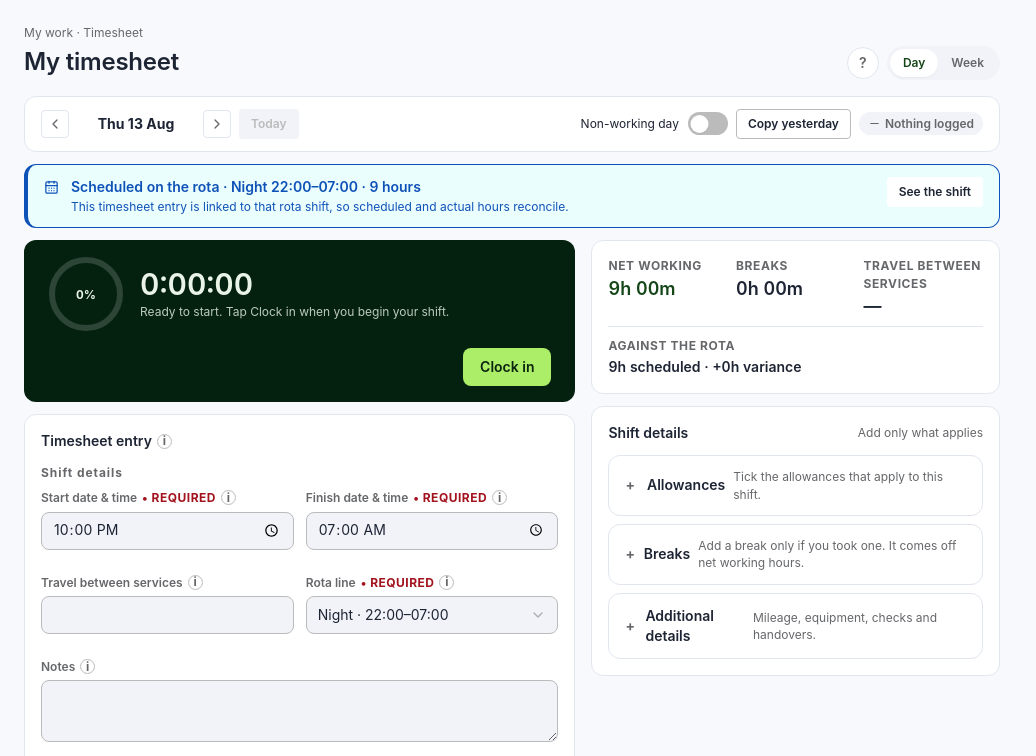
My timesheet, Fill from rota › the grid layout fills the first allocation from the rota
Click the button "Week" at (968, 63), box [938,49,997,77]
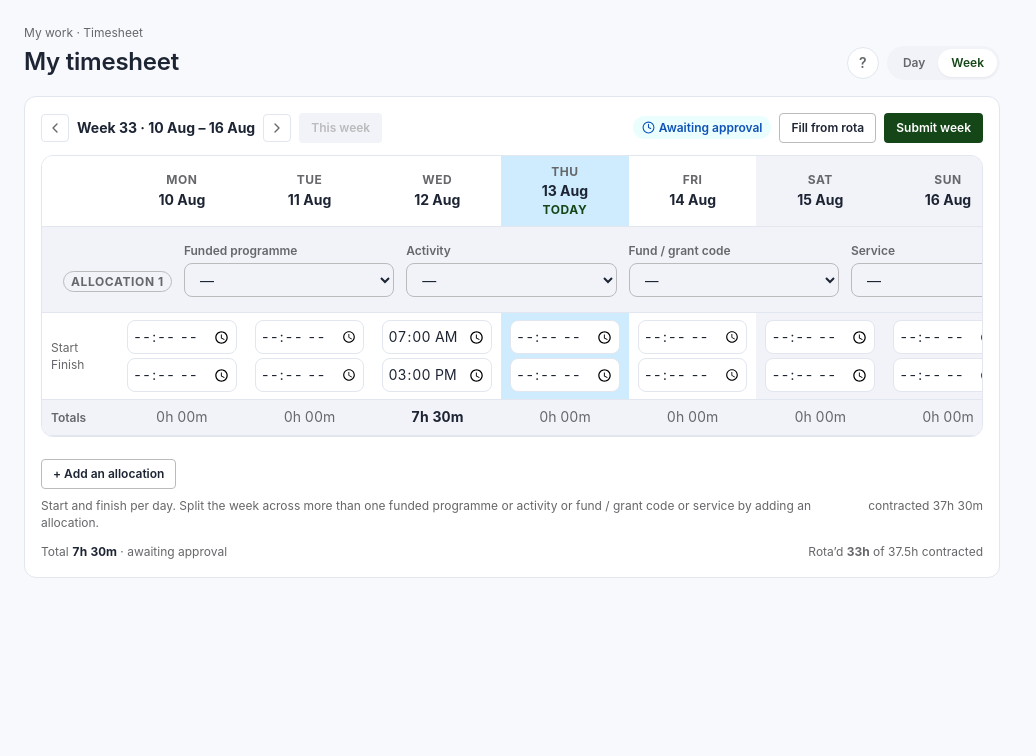
Click the button with test id "ts-fill-rota" at (828, 128), box [779,113,876,143]
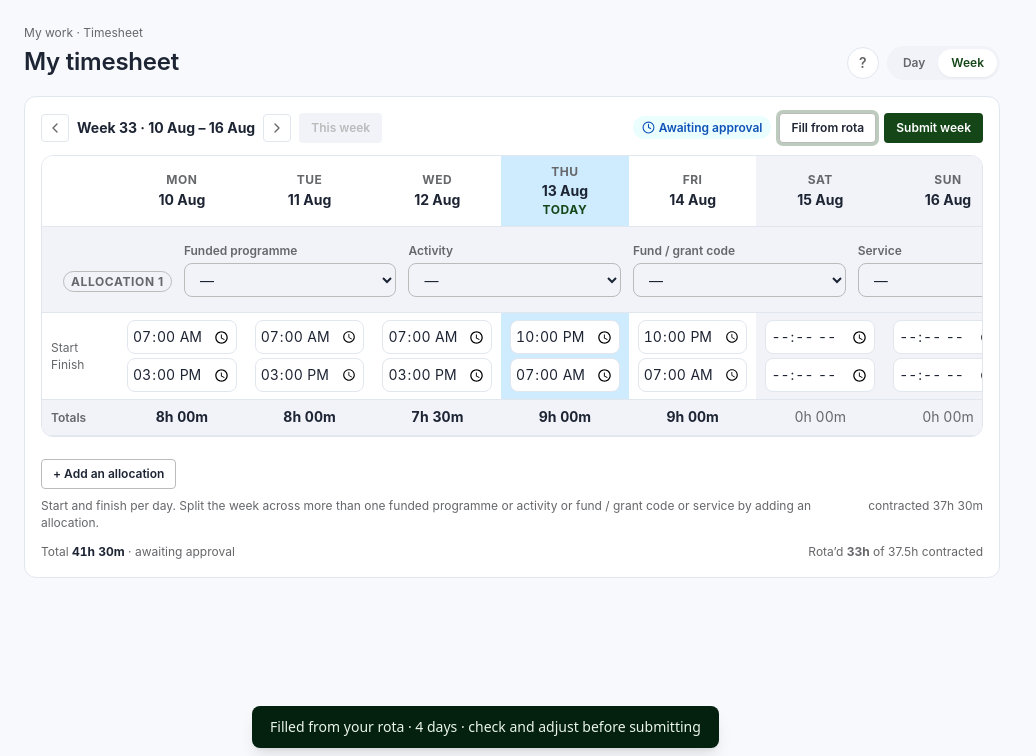
Now the message with test id "toast-info" shows "Filled from your rota · 4 days", box [270,717,701,736]
